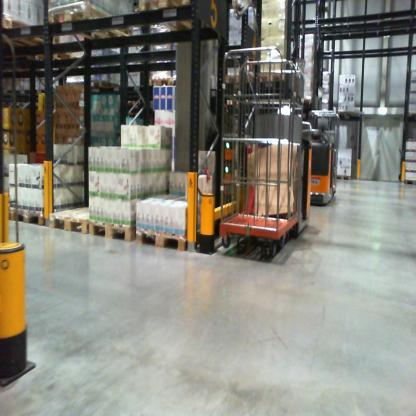pallet: (47, 3, 143, 49), (134, 225, 223, 255), (86, 209, 151, 248), (136, 1, 211, 32), (1, 14, 48, 61), (46, 203, 102, 240), (25, 42, 79, 68), (10, 204, 51, 231), (218, 70, 248, 97), (254, 68, 286, 90), (144, 75, 173, 91), (83, 79, 120, 91), (335, 107, 358, 126), (14, 84, 36, 99), (329, 173, 351, 183), (404, 110, 416, 121), (403, 178, 415, 186)
pallet_truck: (301, 100, 342, 206)
